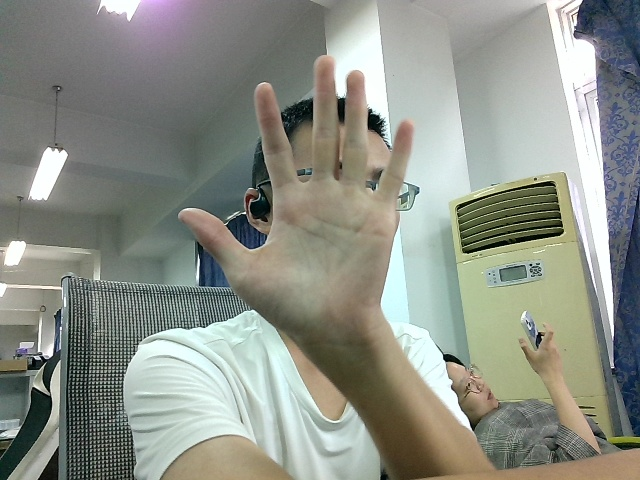paper: (169, 51, 416, 374)
